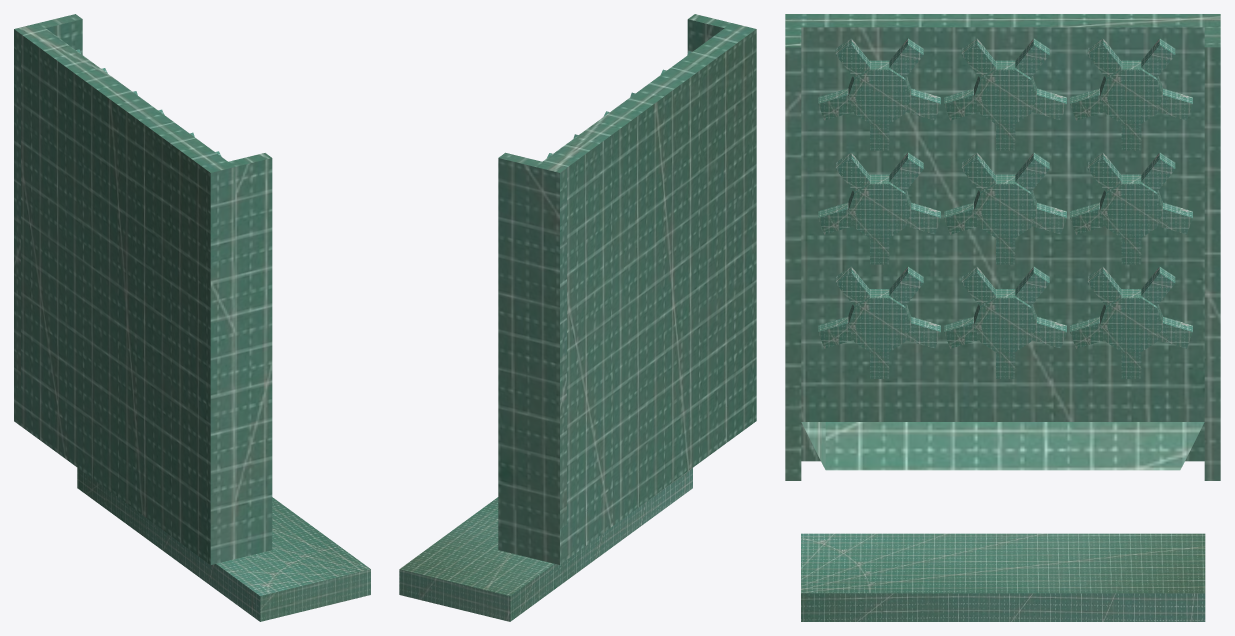
The model's file is level_4.gltf.
3 views of the same model, side by side, from view 1: azimuth 30°, elevation 25°; view 2: azimuth 150°, elevation 25°; view 3: azimuth 270°, elevation 25° (orthographic). The views are drawn at different scales.
Parts seen in each view (by area): view 1: Cube, Cube.001; view 2: Cube, Cube.001; view 3: Cube, Cube.001, Cylinder.003, Cylinder.002, Cylinder.008, Cylinder.004, Cylinder, Cylinder.001, Cylinder.005, Cylinder.007, Cylinder.006.
Part boxes in pixels (left/top/right/bottom): Cube: left=14, top=14, right=272, bottom=564; Cube.001: left=77, top=468, right=370, bottom=621; Cube: left=498, top=14, right=756, bottom=564; Cube.001: left=399, top=468, right=692, bottom=621; Cube: left=785, top=14, right=1220, bottom=480; Cube.001: left=801, top=533, right=1205, bottom=621; Cylinder.003: left=1070, top=38, right=1192, bottom=150; Cylinder.002: left=1070, top=152, right=1192, bottom=264; Cylinder.008: left=1070, top=266, right=1192, bottom=378; Cylinder.004: left=944, top=38, right=1066, bottom=150; Cylinder: left=818, top=152, right=940, bottom=264; Cylinder.001: left=944, top=152, right=1066, bottom=264; Cylinder.005: left=818, top=38, right=940, bottom=150; Cylinder.007: left=944, top=266, right=1066, bottom=378; Cylinder.006: left=818, top=266, right=940, bottom=378.
Bounding box in the file's own units: 13.58 × 36.3 × 27.65.
Materials: 1 (1 with a texture image).
